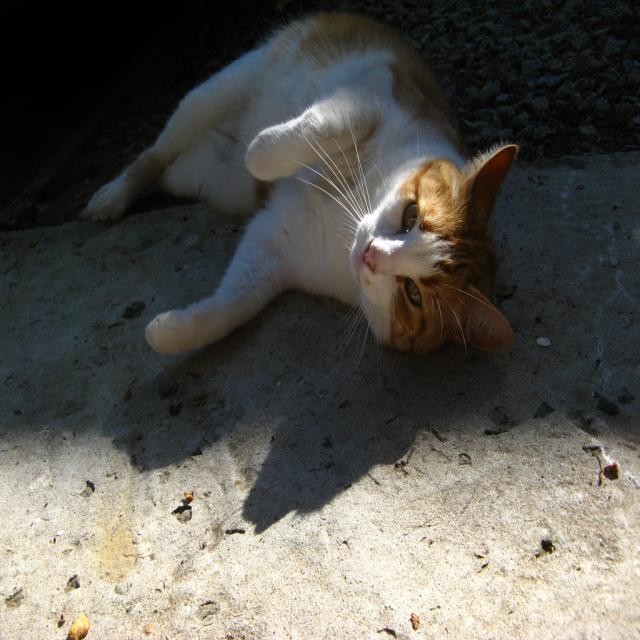Cat: (84, 9, 516, 358)
